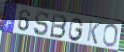6: (18, 9, 31, 33)
B: (49, 13, 68, 40)
G: (68, 17, 85, 42)
K: (86, 19, 101, 45)
O: (102, 23, 119, 48)
S: (33, 11, 50, 37)
